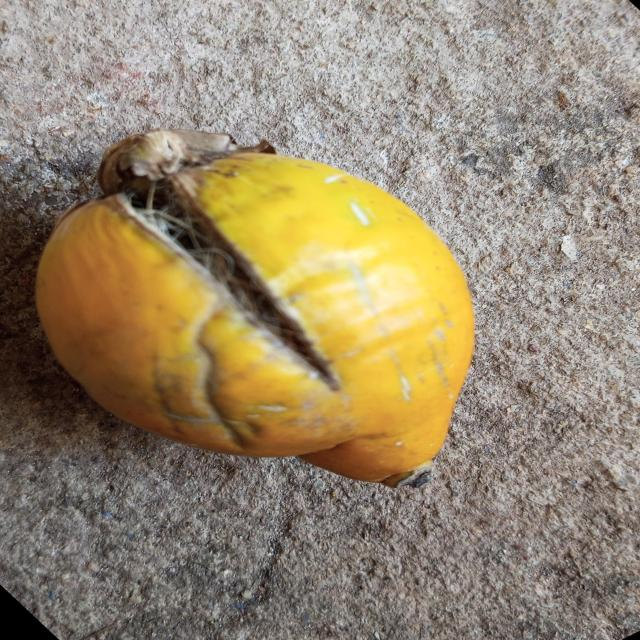damaged: (36, 131, 474, 488)
